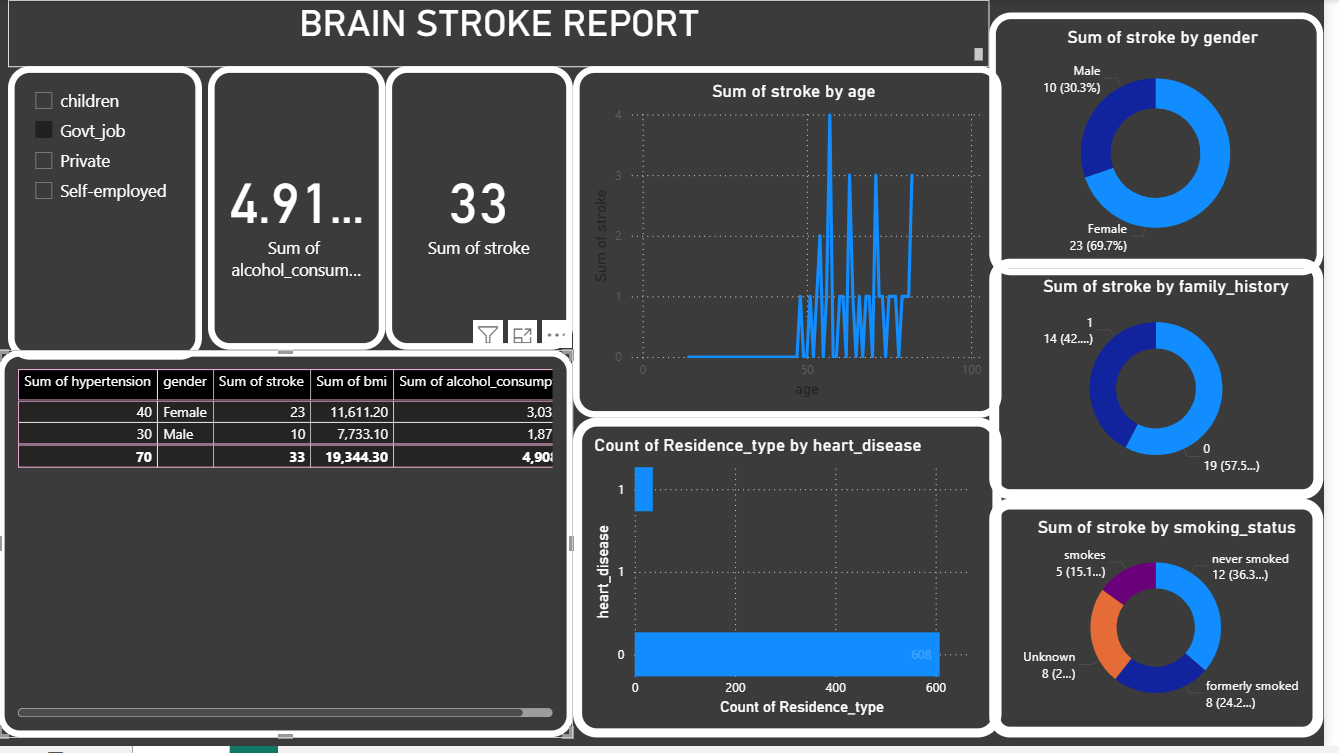

This screenshot's page, from the dashboard's own definition file:
{"tool":"powerbi","page":{"name":"Page 2","canvas":[1280,720],"ordinal":10},"visuals":[{"type":"textbox","title":"BRAIN STROKE REPORT","box":[9.6,0,946.8,64.5],"z":0},{"type":"donutChart","fields":{"Category":["Sheet1.smoking_status"],"Y":["Sum(Sheet1.stroke)"]},"box":[956.7,481.4,322.1,230.4],"z":1000},{"type":"donutChart","fields":{"Y":["Sum(Sheet1.stroke)"],"Category":["Sheet1.family_history"]},"box":[956.7,249.7,322.1,231.6],"z":2000},{"type":"donutChart","fields":{"Y":["Sum(Sheet1.stroke)"],"Category":["Sheet1.gender"]},"box":[956.7,12.1,322.1,253.4],"z":3000},{"type":"barChart","fields":{"Category":["Sheet1.heart_disease"],"Y":["CountNonNull(Sheet1.Residence_type)"]},"box":[555,403,413.8,308.8],"z":4000},{"type":"lineChart","fields":{"Category":["Sheet1.age"],"Y":["Sum(Sheet1.stroke)"]},"box":[555,63.9,413.8,339],"z":5000},{"type":"slicer","fields":{"Values":["Sheet1.work_type"]},"box":[9.7,63.9,187,283.5],"z":6000},{"type":"tableEx","fields":{"Values":["Sum(Sheet1.hypertension)","Sheet1.gender","Sum(Sheet1.bmi)","Sum(Sheet1.alcohol_consumption)"]},"box":[0,337.8,555,374],"z":7000},{"type":"card","fields":{"Values":["Sum(Sheet1.alcohol_consumption)"]},"box":[202.7,63.9,171.3,273.9],"z":8000},{"type":"card","fields":{"Values":["Sum(Sheet1.stroke)"]},"box":[374,63.9,181,273.9],"z":9000}]}

Visuals, with their boxes in screenshot pixels (x1, y1, x2, y2), scaled from the page's 1280x720 canvas onto the 1339x753 screenshot:
"BRAIN STROKE REPORT" textbox: 10 0 1000 67
donutChart - Sheet1.smoking_status x Sum(Sheet1.stroke): 1001 503 1338 744
donutChart - Sum(Sheet1.stroke) x Sheet1.family_history: 1001 261 1338 503
donutChart - Sum(Sheet1.stroke) x Sheet1.gender: 1001 13 1338 278
barChart - Sheet1.heart_disease x CountNonNull(Sheet1.Residence_type): 581 421 1013 744
lineChart - Sheet1.age x Sum(Sheet1.stroke): 581 67 1013 421
slicer - Sheet1.work_type: 10 67 206 363
tableEx - Sum(Sheet1.hypertension) x Sheet1.gender: 0 353 581 744
card - Sum(Sheet1.alcohol_consumption): 212 67 391 353
card - Sum(Sheet1.stroke): 391 67 581 353
